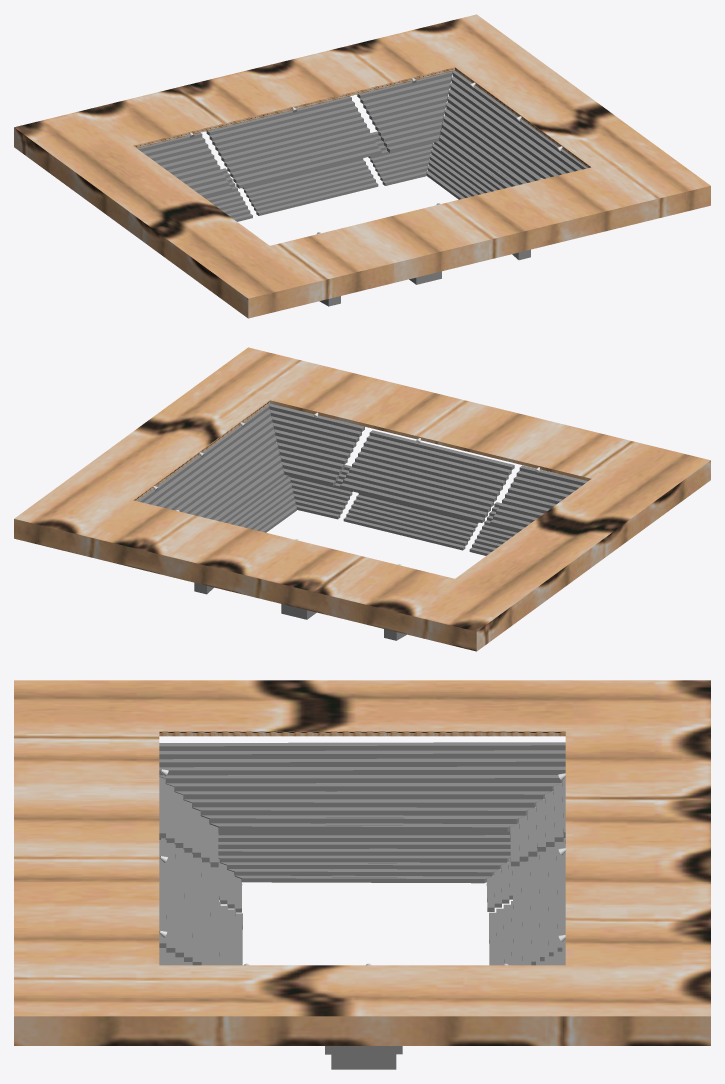
File: kantai.FBX
3 renders of one model, top to bottom at view 1: azimuth 30°, elevation 25°; view 2: azimuth 150°, elevation 25°; view 3: azimuth 270°, elevation 25°, orthographic. The views are drawn at different scales.
Parts seen in each view (by area): view 1: Box05, StraightStair11, StraightStair16, StraightStair17, StraightStair02, StraightStair12, StraightStair08, StraightStair09, StraightStair03; view 2: Box05, StraightStair18, StraightStair16, StraightStair15, StraightStair10, StraightStair14, StraightStair08, StraightStair07, StraightStair06; view 3: Box05, StraightStair13, StraightStair04, StraightStair18, StraightStair11, StraightStair14, StraightStair12, StraightStair02, StraightStair10, StraightStair03, StraightStair08, StraightStair06 (+1 smaller).
Part boxes in pixels (<box>): Box05: <box>14,14,710,318</box>; StraightStair11: <box>206,96,381,188</box>; StraightStair16: <box>439,70,587,188</box>; StraightStair17: <box>357,71,453,152</box>; StraightStair02: <box>242,158,378,215</box>; StraightStair12: <box>137,132,232,197</box>; StraightStair08: <box>426,120,503,199</box>; StraightStair09: <box>368,131,432,185</box>; StraightStair03: <box>205,168,252,221</box>; Box05: <box>14,347,710,651</box>; StraightStair18: <box>340,430,514,522</box>; StraightStair16: <box>137,404,284,521</box>; StraightStair15: <box>269,403,364,485</box>; StraightStair10: <box>343,493,479,550</box>; StraightStair14: <box>490,465,587,531</box>; StraightStair08: <box>221,475,296,532</box>; StraightStair07: <box>289,464,352,519</box>; StraightStair06: <box>469,502,518,555</box>; Box05: <box>14,680,710,1045</box>; StraightStair13: <box>159,742,565,832</box>; StraightStair04: <box>209,815,526,883</box>; StraightStair18: <box>159,840,219,965</box>; StraightStair11: <box>512,839,565,965</box>; StraightStair14: <box>159,777,218,867</box>; StraightStair12: <box>510,777,565,866</box>; StraightStair02: <box>489,901,513,965</box>; StraightStair10: <box>164,901,242,965</box>; StraightStair03: <box>486,838,565,911</box>; StraightStair08: <box>331,1054,396,1069</box>; StraightStair06: <box>161,838,242,912</box>.
Size of the model in its own units: 228 by 35.7 by 199.
